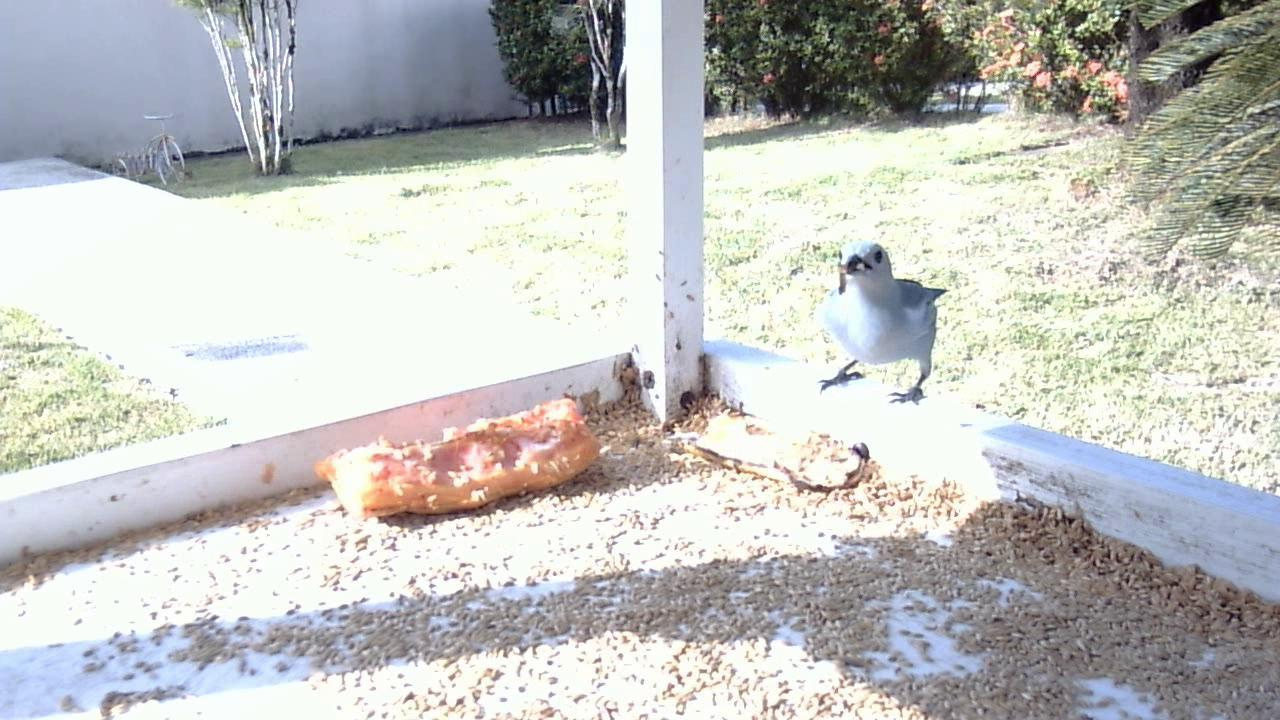sanhaco_da_amazonia: (803, 237, 955, 408)
